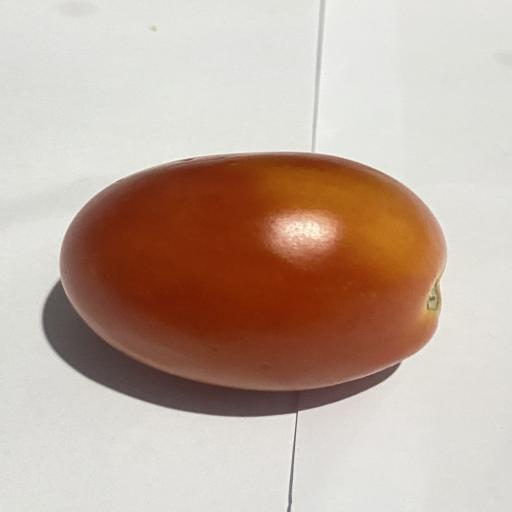ripe: (61, 153, 446, 390)
